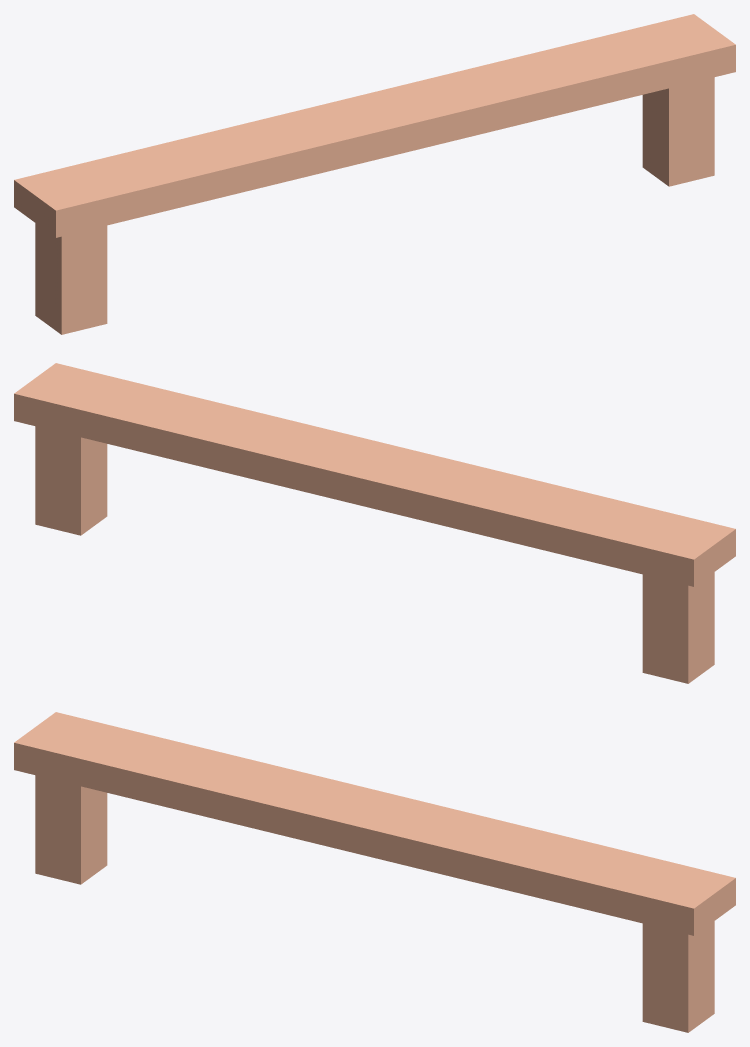
Rendered from fence_simpleLow.glb.
The picture shows the model from 3 angles, top to bottom: view 1: azimuth 30°, elevation 25°; view 2: azimuth 150°, elevation 25°; view 3: azimuth 330°, elevation 25°; orthographic projection.
Parts seen in each view (by area): view 1: fence_simpleLow; view 2: fence_simpleLow; view 3: fence_simpleLow.
Part boxes in pixels (<box>): fence_simpleLow: <box>14,14,735,334</box>; fence_simpleLow: <box>14,363,735,683</box>; fence_simpleLow: <box>14,712,735,1032</box>.
Bounding box in the file's own units: 1.04 × 0.195 × 0.1112.
